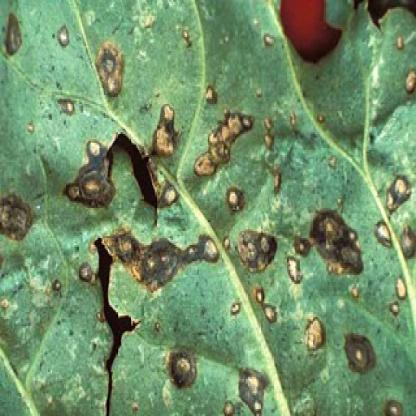tomato leaf bacterial spot: (5, 5, 415, 414)
